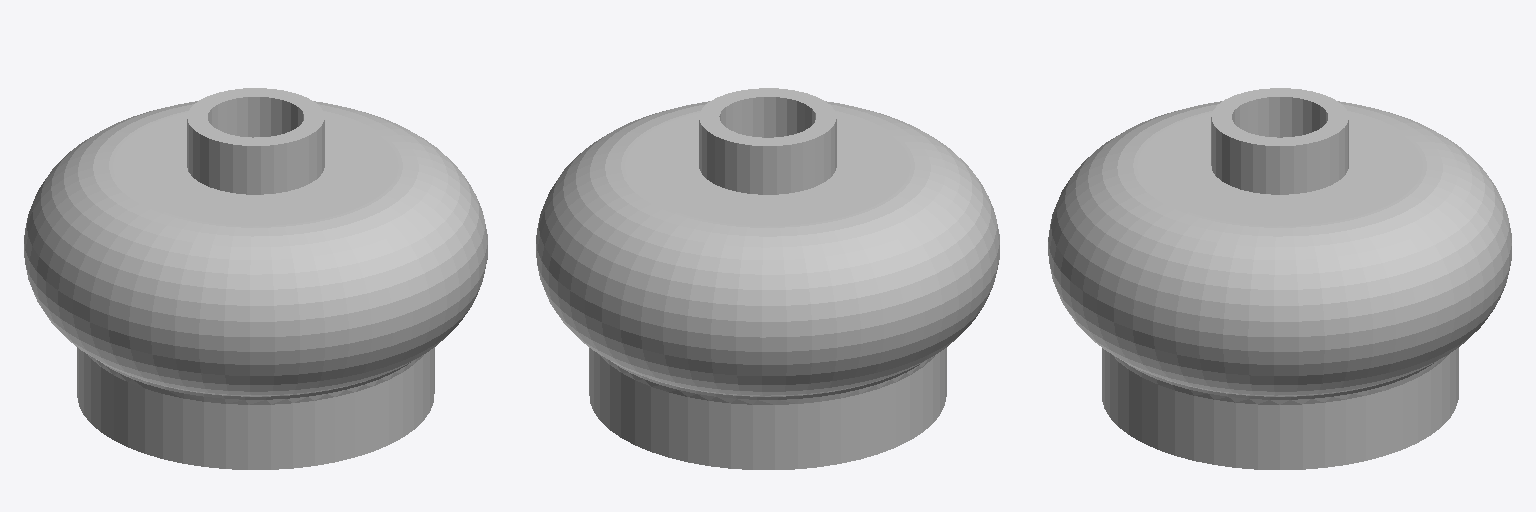
The model's file is 77. Колпак защитный.obj.
3 renders of one model, left to right at view 1: azimuth 30°, elevation 25°; view 2: azimuth 150°, elevation 25°; view 3: azimuth 270°, elevation 25°, orthographic.
Visible parts, largest first — view 1: Твердое тело1; view 2: Твердое тело1; view 3: Твердое тело1.
Boxes of the visible parts, x1=… form: Твердое тело1: x1=24, y1=88, x2=487, y2=469; Твердое тело1: x1=536, y1=88, x2=999, y2=469; Твердое тело1: x1=1048, y1=88, x2=1511, y2=469.
Bounding box in the file's own units: 90.82 × 60 × 90.79.